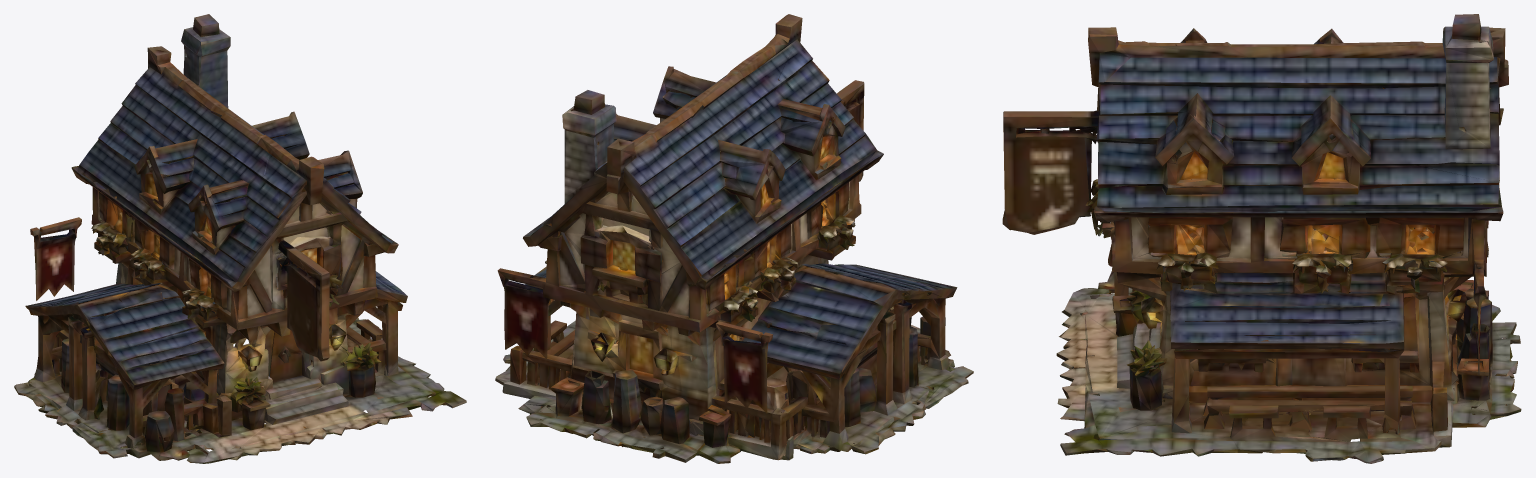
The model's file is tavernBuilding.glb.
3 renders of one model, left to right at view 1: azimuth 30°, elevation 25°; view 2: azimuth 150°, elevation 25°; view 3: azimuth 270°, elevation 25°, orthographic. The views are drawn at different scales.
Parts seen in each view (by area): view 1: geometry_0; view 2: geometry_0; view 3: geometry_0.
Boxes of the visible parts, bbox=[...] form: geometry_0: bbox=[14, 14, 466, 463]; geometry_0: bbox=[495, 14, 973, 463]; geometry_0: bbox=[1002, 14, 1521, 463].
Size of the model in its own units: 0.9711 by 0.8052 by 0.9996.
Materials: 1 (1 with a texture image).
